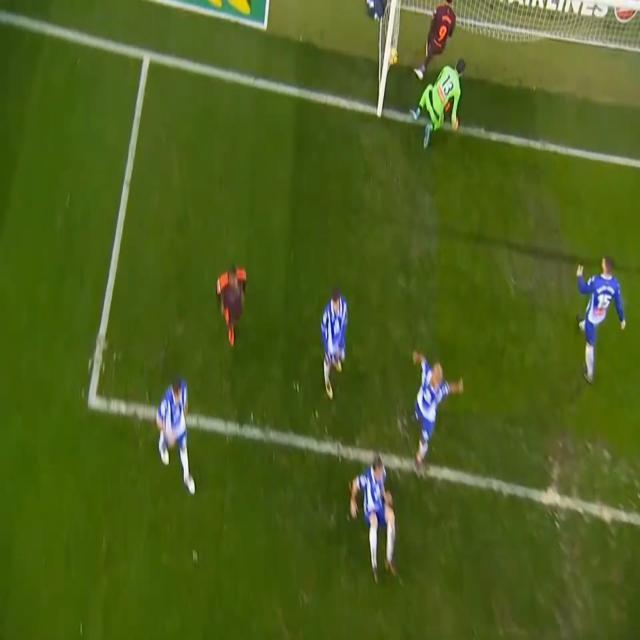goalkeeper: (414, 52, 477, 146)
player: (347, 440, 408, 580), (405, 327, 457, 489), (147, 373, 210, 493), (308, 273, 360, 418), (572, 255, 630, 384), (200, 249, 260, 369)
